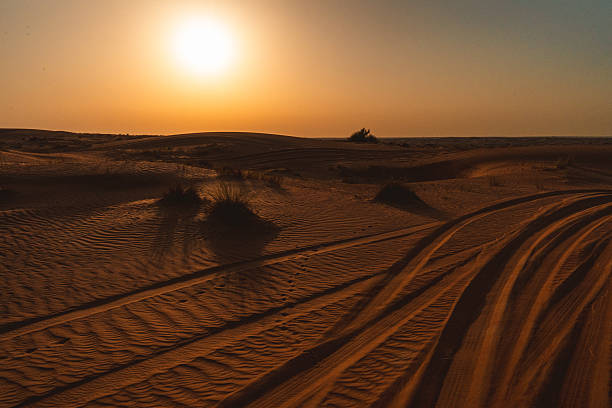vehicle_track: (0, 222, 438, 340), (22, 269, 388, 405), (20, 270, 386, 405), (376, 203, 609, 406), (400, 195, 611, 406), (305, 195, 545, 369), (344, 194, 549, 328), (466, 214, 582, 405), (493, 217, 609, 403), (507, 238, 611, 405), (304, 253, 422, 360)
